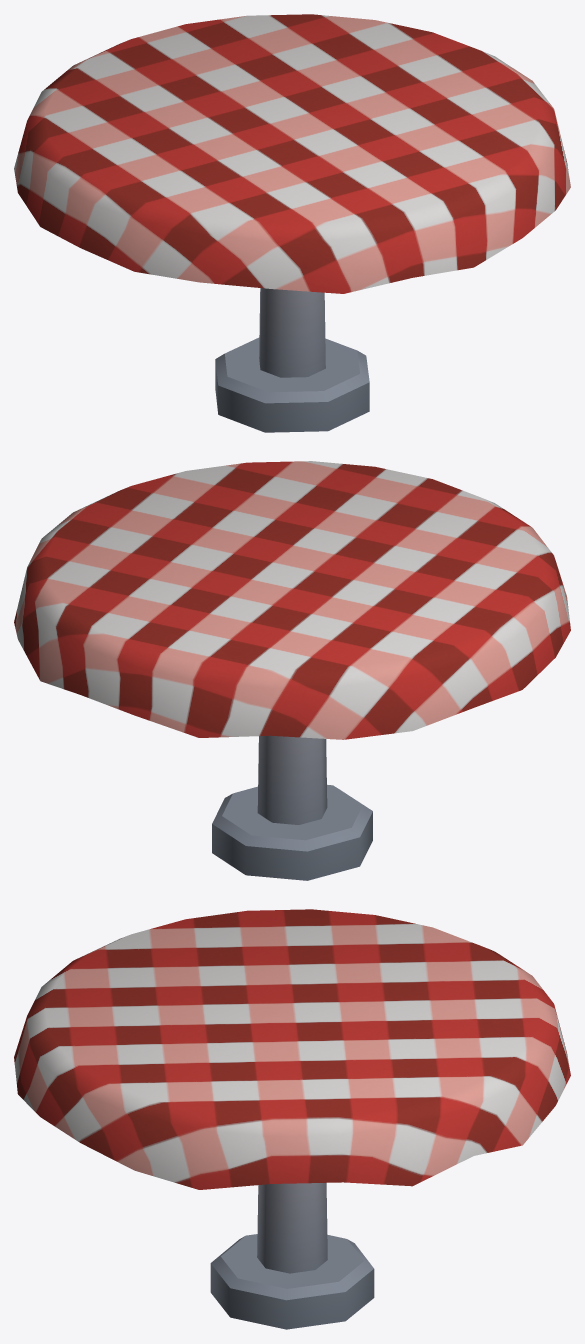
Rendered from Table_3_B.glb.
3 renders of one model, top to bottom at view 1: azimuth 30°, elevation 25°; view 2: azimuth 150°, elevation 25°; view 3: azimuth 270°, elevation 25°, orthographic.
Parts seen in each view (by area): view 1: Table_3_B; view 2: Table_3_B; view 3: Table_3_B.
Part boxes in pixels (x1,y1,x2,y2): Table_3_B: (14, 14, 570, 432); Table_3_B: (14, 461, 570, 880); Table_3_B: (14, 909, 570, 1329).
Bounding box in the file's own units: 1.44 × 0.8 × 1.44.
3 materials, 3 textured.
